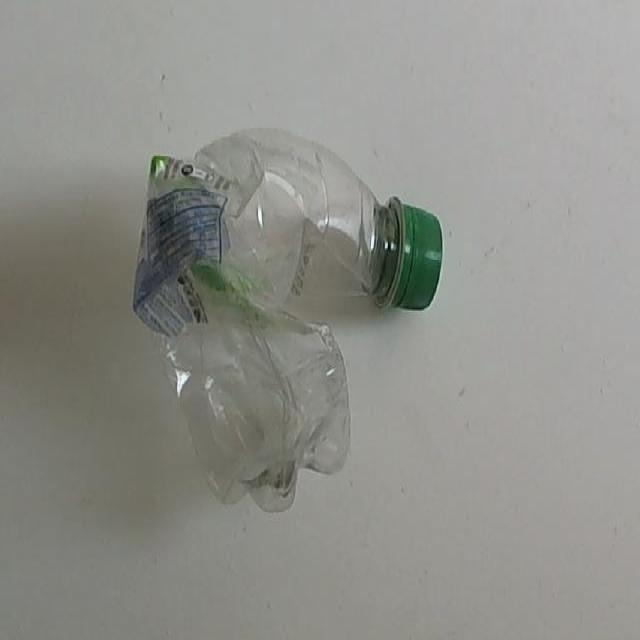defect: (130, 123, 445, 518)
